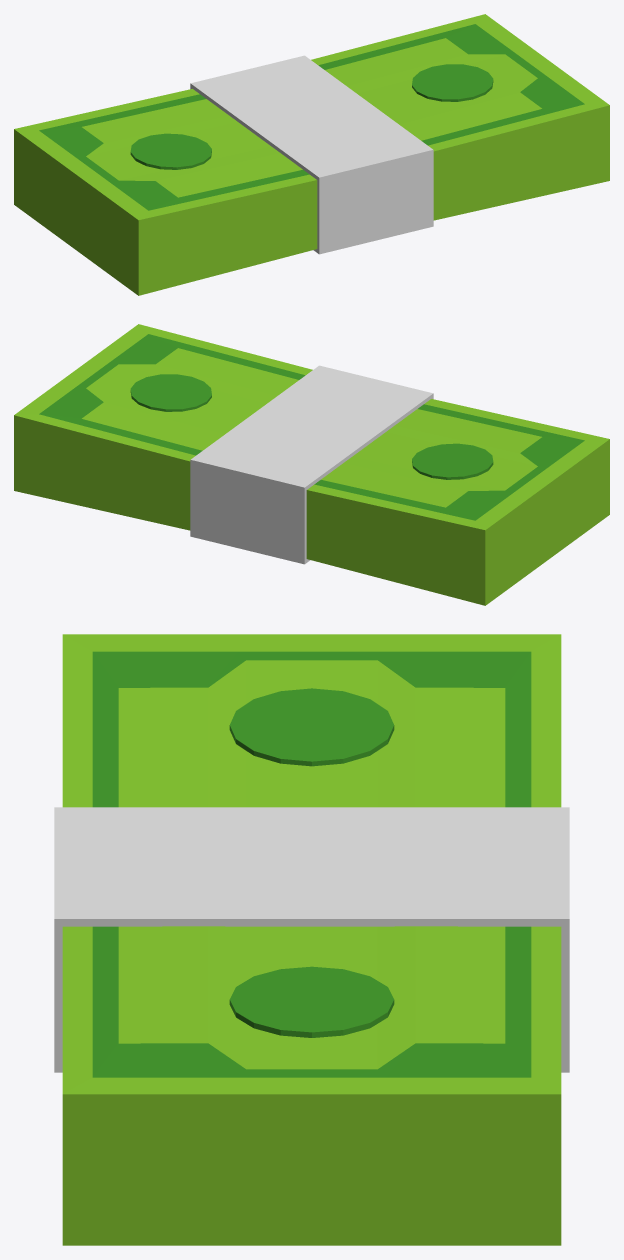
The model's file is money3d.fbx.
3 views of the same model, one above another, from view 1: azimuth 30°, elevation 25°; view 2: azimuth 150°, elevation 25°; view 3: azimuth 270°, elevation 25° (orthographic). The views are drawn at different scales.
Visible parts, largest first — view 1: Cube.010; view 2: Cube.010; view 3: Cube.010.
Part boxes in pixels (x1,y1,x2,y2): Cube.010: (14,14,609,295); Cube.010: (14,324,609,605); Cube.010: (54,634,569,1245).
Bounding box in the file's own units: 150 × 24 × 70.8.
